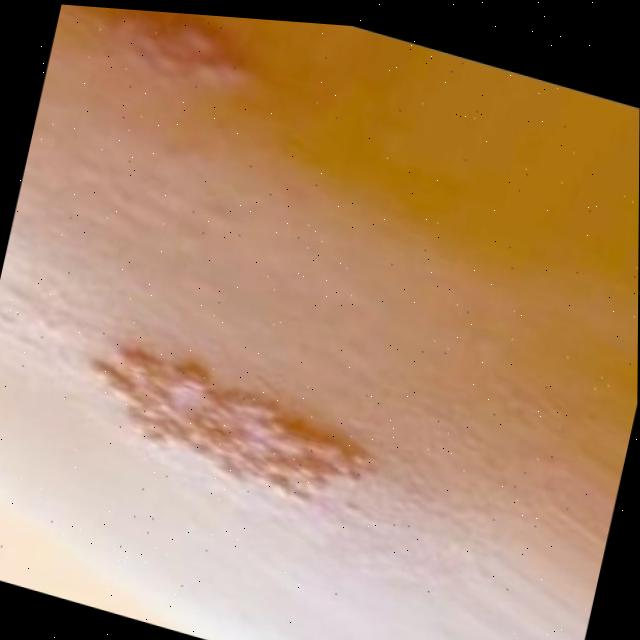Shingles: (70, 331, 387, 527), (104, 8, 259, 102)
